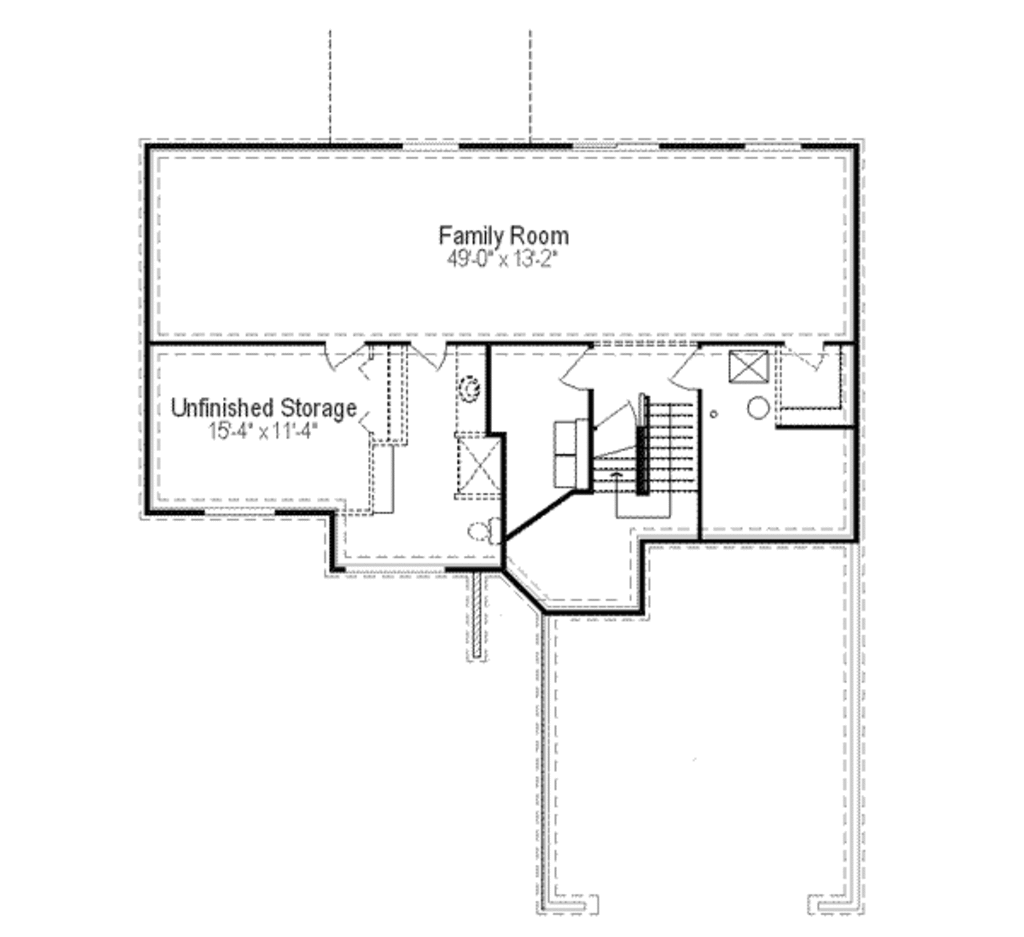door: (669, 342, 711, 393), (407, 332, 455, 376), (318, 329, 362, 374), (558, 341, 597, 390)
large_sink: (456, 510, 503, 548)
small_sink: (452, 368, 495, 413)
stairs: (582, 390, 701, 535)
window: (572, 126, 662, 158), (395, 138, 474, 164), (742, 132, 805, 160), (198, 500, 284, 519)
